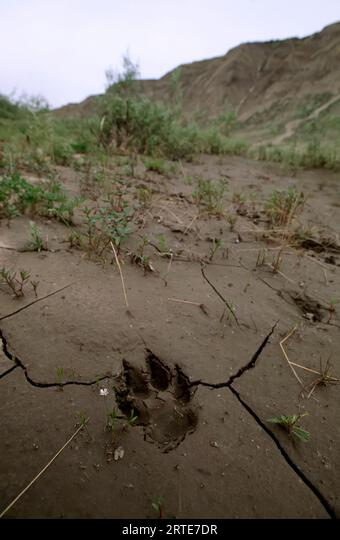bear: (99, 337, 212, 460)
